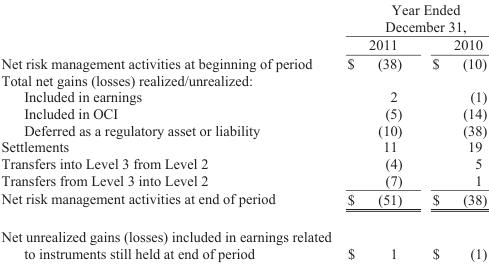table: (0, 1, 486, 260)
table column: (0, 1, 338, 260), (338, 1, 416, 260), (416, 1, 486, 260)
table column header: (0, 1, 486, 53)
table projected row header: (0, 71, 486, 88)
table row: (0, 217, 486, 260), (0, 1, 486, 35), (0, 189, 486, 217), (0, 35, 486, 53), (0, 53, 486, 71), (0, 171, 486, 189), (0, 71, 486, 88), (0, 104, 486, 121), (0, 121, 486, 138), (0, 154, 486, 171), (0, 88, 486, 104), (0, 138, 486, 154)
table spanning cell: (338, 1, 486, 35)
